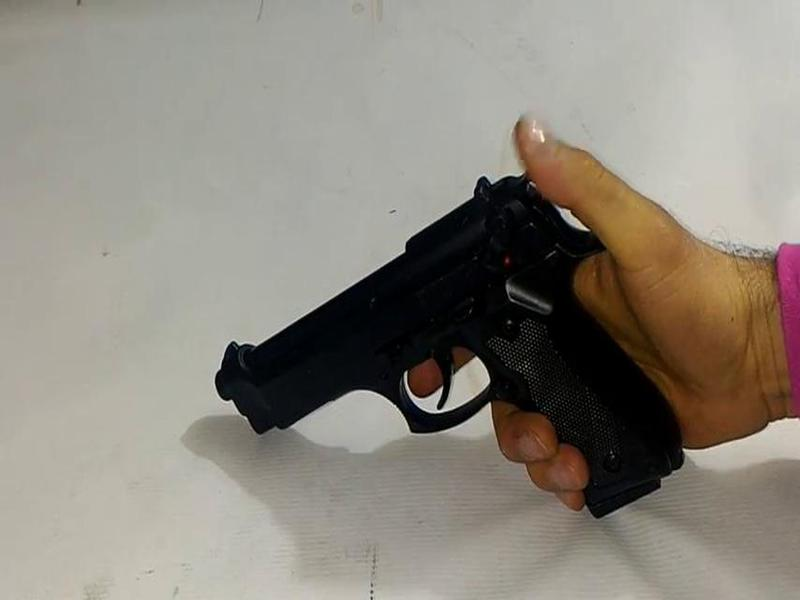Pistola: (194, 144, 707, 524)
